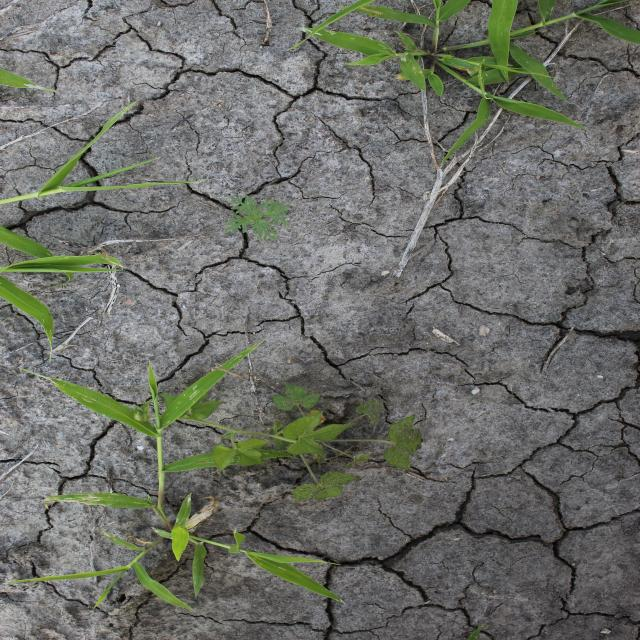MorningGlory: (133, 384, 424, 504)
Ragweed: (219, 194, 296, 244)
